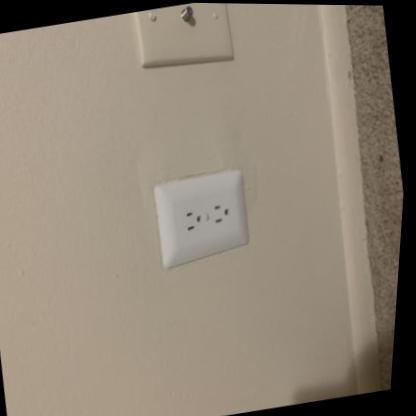OUTLET: (145, 160, 260, 270)
